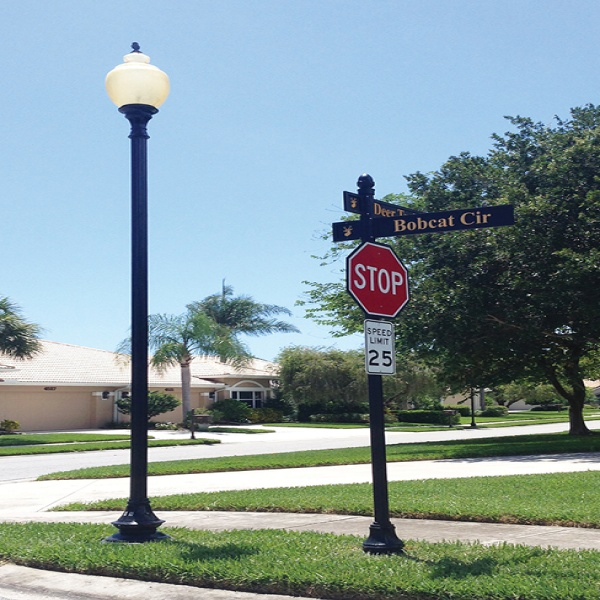stop: (346, 246, 406, 322)
